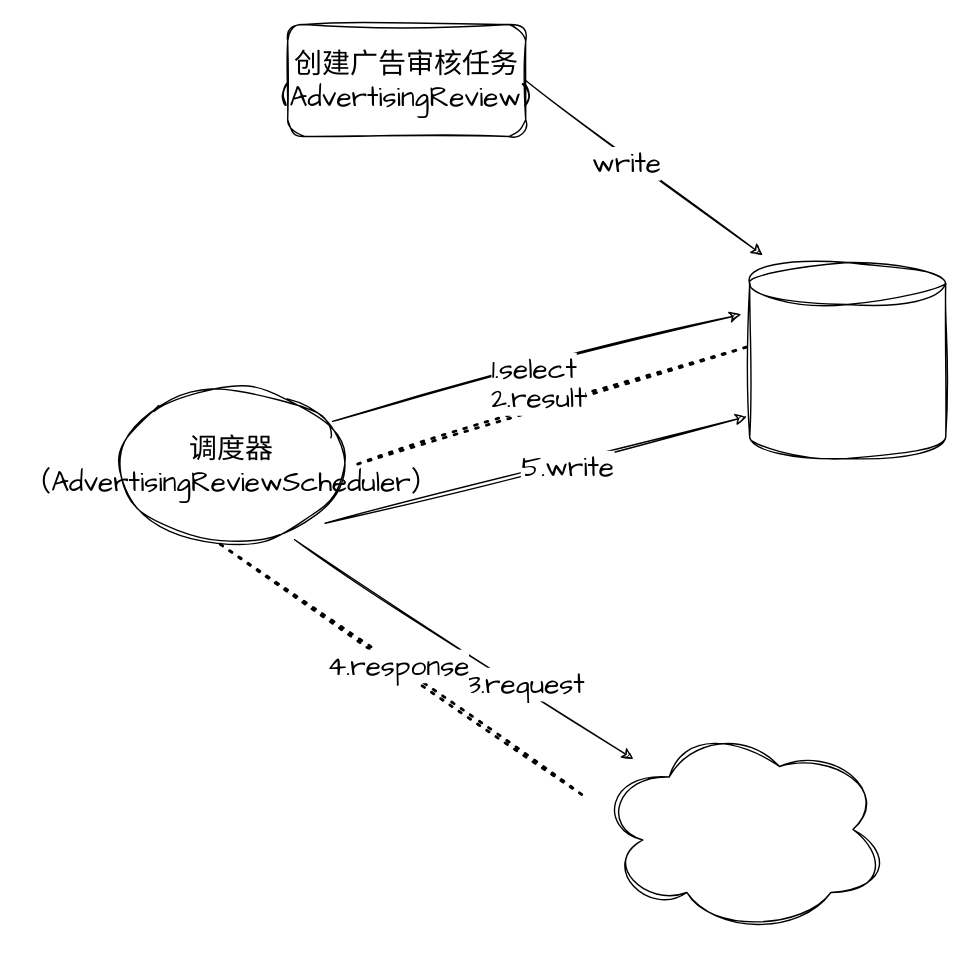
The diagram is 970 pixels wide and 959 high, and some of its shapes have lost their labels. The shapes that lost their labels are listed below. From the top down, each one's centre as x and y in pixels, then its label:
At pixel 847 359: "DataBase".
At pixel 742 828: "广告审核服务".
